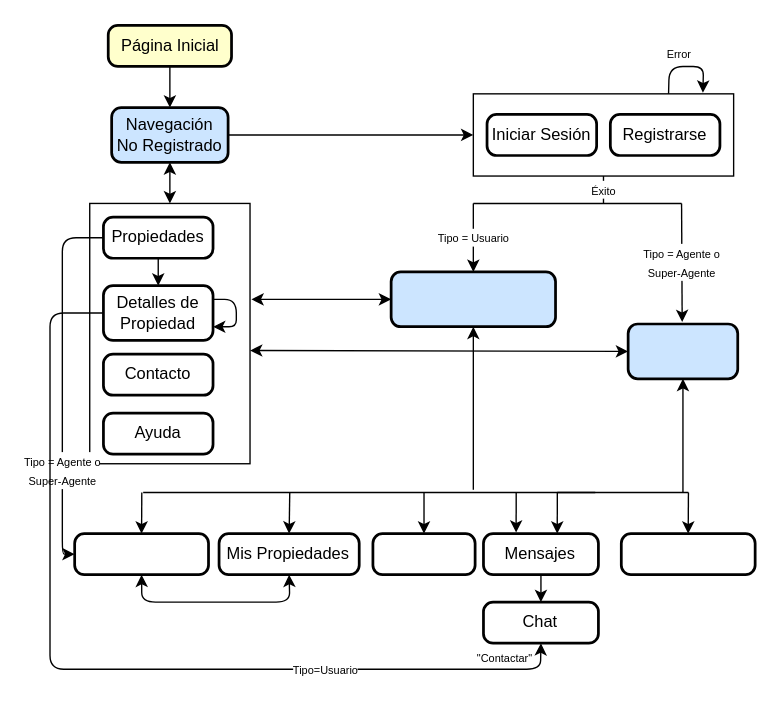
Some shapes in this 780 by 704 pixel diagram are drawn without their labels. The box of each missing label's shape, as (x1, y1, x2, y2) in pixels:
Añadir Propiedad: (73, 532, 209, 575)
Estadísticas: (371, 532, 476, 575)
Mis Seguimientos: (619, 532, 756, 575)
Navegación Agente/Super-Agente: (389, 270, 556, 327)
Navegación Usuario: (626, 322, 738, 379)
